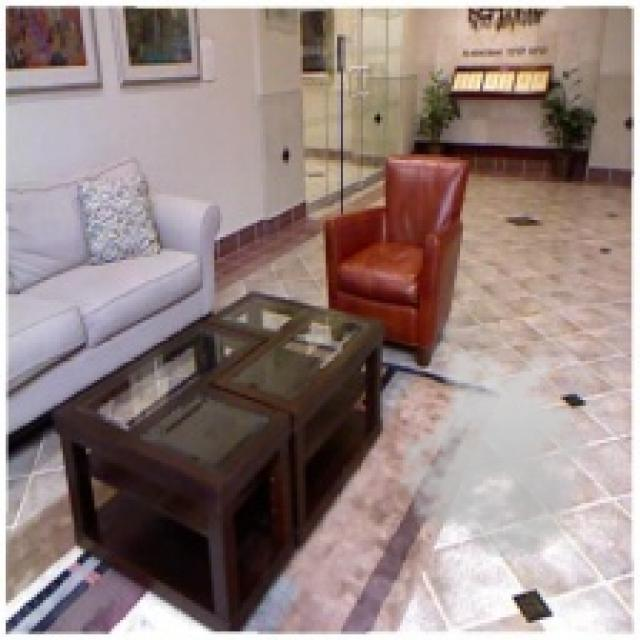Smoke: (392, 343, 614, 560)
